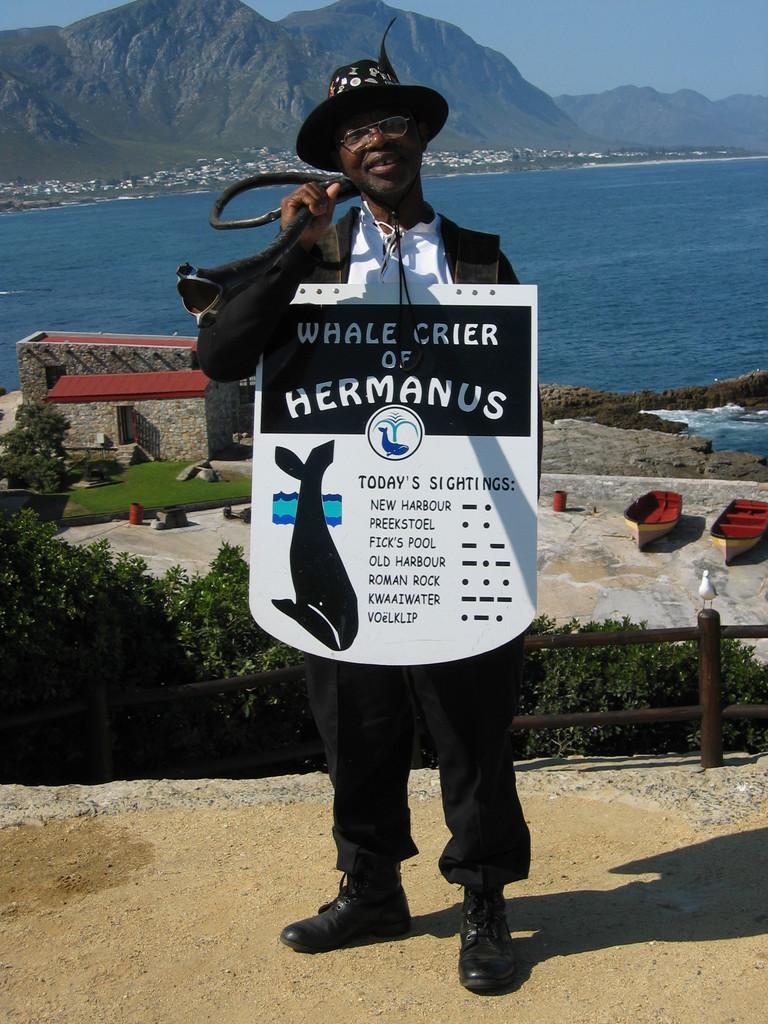Hat: (292, 56, 448, 176)
